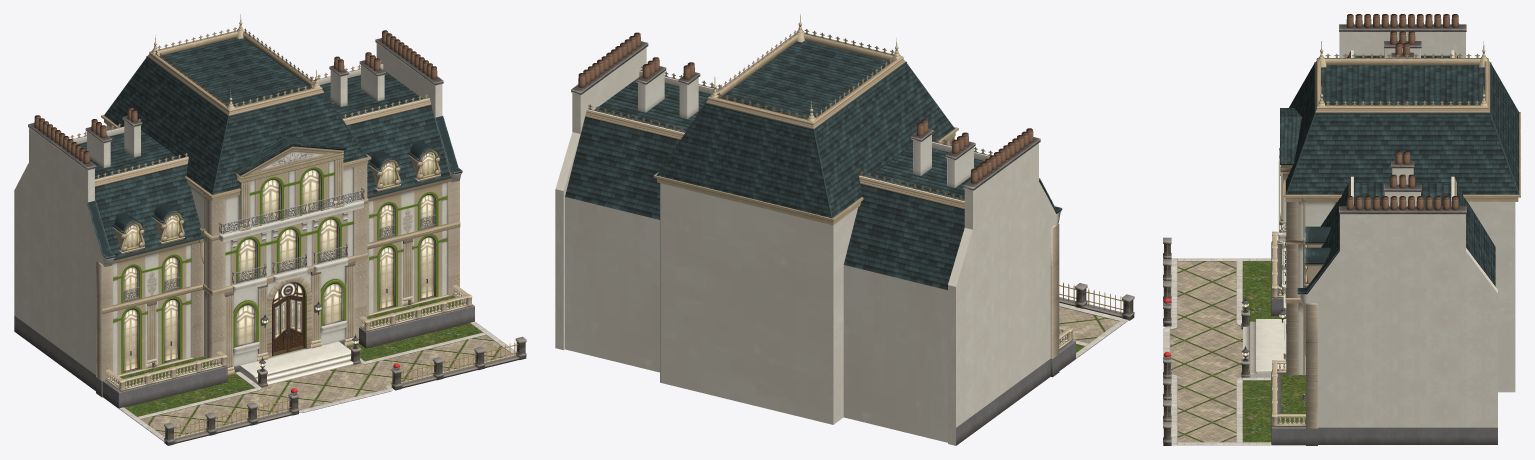
Rendered from t1_b_platane_lab.glb.
3 views of the same model, side by side, from view 1: azimuth 30°, elevation 25°; view 2: azimuth 150°, elevation 25°; view 3: azimuth 270°, elevation 25° (orthographic). The views are drawn at different scales.
Visible parts, largest first — view 1: nomerge_displaymodel_gp; view 2: nomerge_displaymodel_gp; view 3: nomerge_displaymodel_gp.
Part boxes in pixels (x1,y1,x2,y2): nomerge_displaymodel_gp: [14, 14, 526, 445]; nomerge_displaymodel_gp: [555, 14, 1134, 445]; nomerge_displaymodel_gp: [1163, 14, 1520, 445].
Bounding box in the file's own units: 25.23 × 18.05 × 20.29.
Materials: 4 (4 with a texture image).
